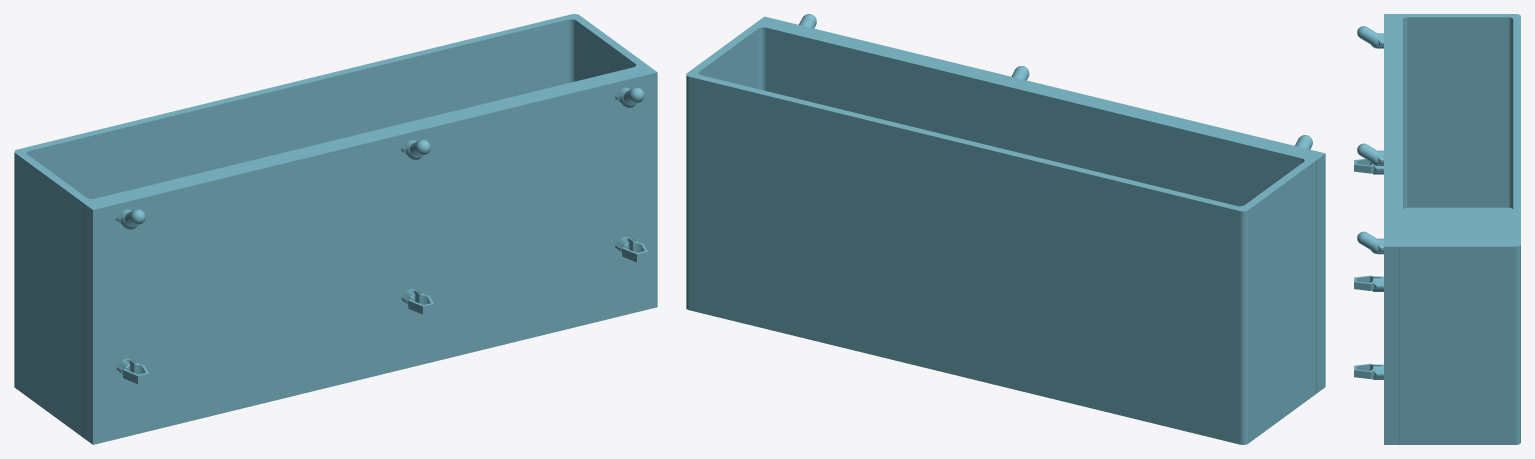
File: part-pb03__current-mounts-v1__fit-pf02c9-hoop5__installed.glb
3 views of the same model, side by side, from view 1: azimuth 30°, elevation 25°; view 2: azimuth 150°, elevation 25°; view 3: azimuth 270°, elevation 25° (orthographic). The views are drawn at different scales.
Parts seen in each view (by area): view 1: installed.stl; view 2: installed.stl; view 3: installed.stl.
Part boxes in pixels (<box>): installed.stl: <box>14,14,657,444</box>; installed.stl: <box>686,14,1325,444</box>; installed.stl: <box>1354,14,1520,444</box>.
Size of the model in its own units: 0.2012 by 0.0803 by 0.0609.
